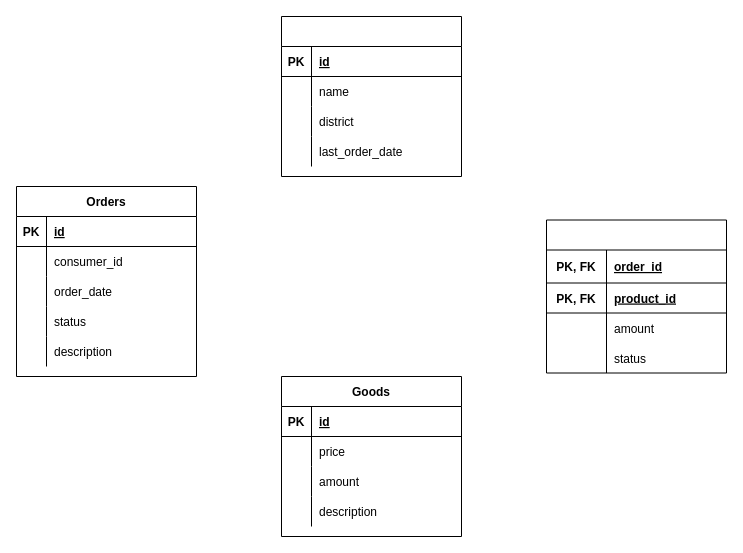
This 743x553 diagram has some shape labels left out. Here are the shapes that lost their labels. From the top down, the box of each, then its label:
(280, 16, 462, 176): Consumers
(546, 219, 726, 373): OrderEntries
